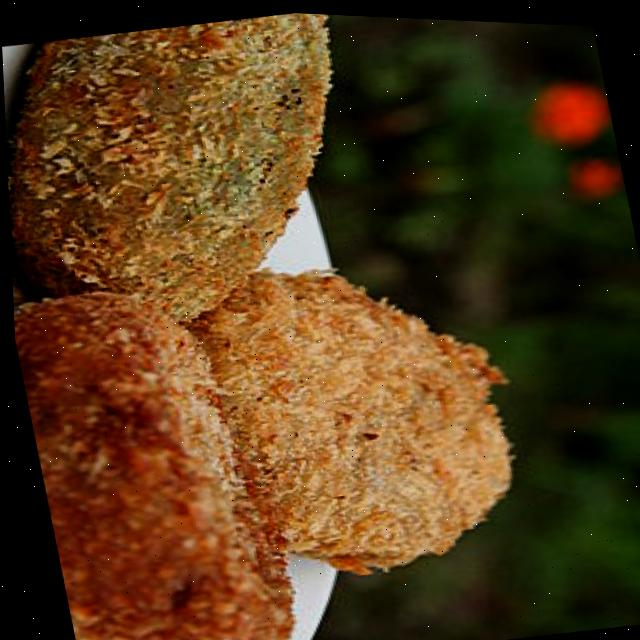炸货点心: (0, 0, 559, 640)
